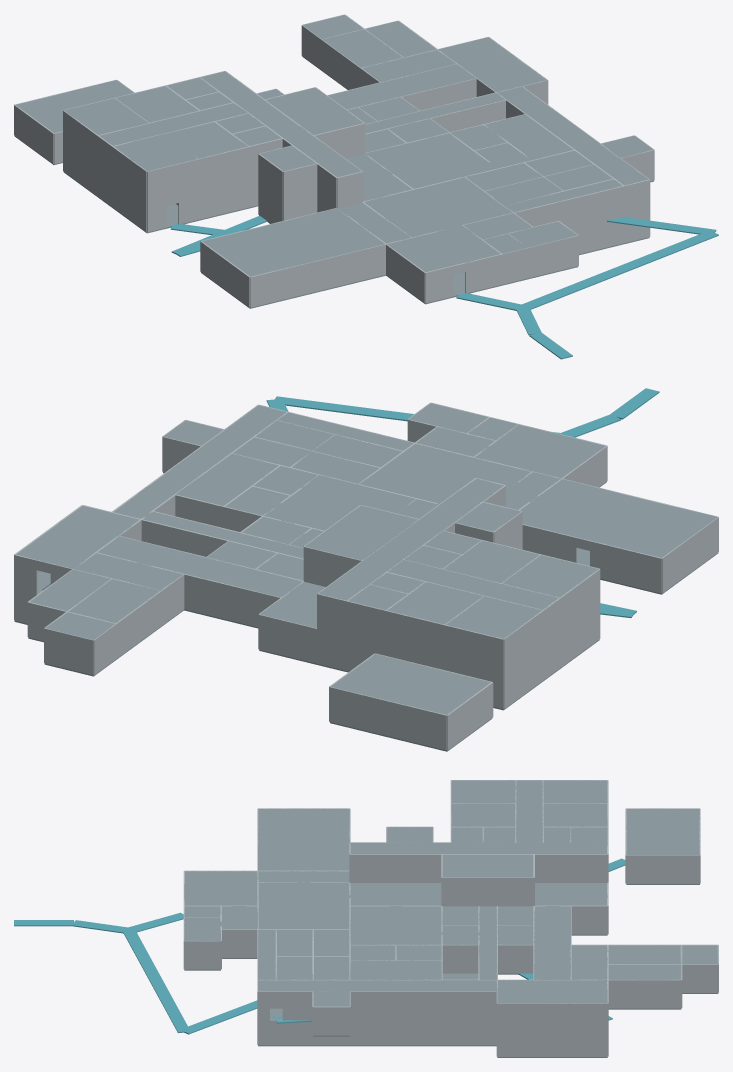
Rendered from rough-shell.glb.
3 views of the same model, one above another, from view 1: azimuth 30°, elevation 25°; view 2: azimuth 150°, elevation 25°; view 3: azimuth 270°, elevation 25° (orthographic). The views are drawn at different scales.
Parts seen in each view (by area): view 1: Wall day S, Ceiling cap upper-spine, Wall meal-return S, Ceiling cap day.001, Ceiling cap dining.003, Ceiling cap day, Ceiling cap upper-stair, Ceiling cap treatment.001, Ceiling cap service-link, Ceiling cap upper-ward-link, L73 support 1, Ceiling cap upper-south-a (+73 smaller); view 2: Ceiling cap upper-spine, Wall chapel N, Ceiling cap upper-stair, Ceiling cap day.001, Ceiling cap day, Ceiling cap dining.003, Ceiling cap service-link, Wall service-link N, Ceiling cap chapel.001, Ceiling cap chapel, Ceiling cap upper-ward-link, Wall day N (+77 smaller); view 3: Wall cellar-service E, Wall service E, Wall service-stair E, Ceiling cap upper-spine, Wall cellar-stair E, Wall upper-stair E, Wall upper-spine E.001, Ceiling cap day.001, Ceiling cap upper-stair, Wall upper-spine E, Ceiling cap day, Wall quiet-observation E (+57 smaller).
Part boxes in pixels (bbox=[...]): Wall day S: bbox=[250, 244, 385, 307]; Ceiling cap upper-spine: bbox=[200, 71, 361, 177]; Wall meal-return S: bbox=[514, 186, 624, 229]; Ceiling cap day.001: bbox=[253, 216, 351, 264]; Ceiling cap dining.003: bbox=[414, 177, 512, 224]; Ceiling cap day: bbox=[202, 229, 300, 276]; Ceiling cap upper-stair: bbox=[266, 87, 363, 134]; Ceiling cap treatment.001: bbox=[370, 136, 477, 174]; Ceiling cap service-link: bbox=[327, 64, 471, 106]; Ceiling cap upper-ward-link: bbox=[99, 103, 247, 145]; L73 support 1: bbox=[522, 230, 718, 309]; Ceiling cap upper-south-a: bbox=[114, 134, 197, 171]; Ceiling cap upper-spine: bbox=[318, 478, 503, 600]; Wall chapel N: bbox=[329, 687, 447, 750]; Ceiling cap upper-stair: bbox=[305, 505, 418, 560]; Ceiling cap day.001: bbox=[545, 488, 658, 543]; Ceiling cap day: bbox=[604, 503, 717, 557]; Ceiling cap dining.003: bbox=[359, 443, 472, 498]; Ceiling cap service-link: bbox=[97, 540, 298, 597]; Wall service-link N: bbox=[152, 566, 280, 627]; Ceiling cap chapel.001: bbox=[330, 654, 433, 700]; Ceiling cap chapel: bbox=[389, 668, 490, 714]; Ceiling cap upper-ward-link: bbox=[388, 560, 559, 609]; Wall day N: bbox=[590, 541, 661, 593]; Wall cellar-service E: bbox=[258, 1020, 496, 1045]; Wall service E: bbox=[282, 991, 496, 1020]; Wall service-stair E: bbox=[497, 1003, 607, 1031]; Ceiling cap upper-spine: bbox=[350, 842, 607, 853]; Wall cellar-stair E: bbox=[497, 1032, 607, 1056]; Wall upper-stair E: bbox=[442, 877, 533, 906]; Wall upper-spine E.001: bbox=[350, 854, 453, 882]; Ceiling cap day.001: bbox=[258, 832, 349, 855]; Ceiling cap upper-stair: bbox=[442, 854, 533, 877]; Wall upper-spine E: bbox=[467, 854, 607, 882]; Ceiling cap day: bbox=[258, 808, 349, 831]; Wall quiet-observation E: bbox=[608, 979, 681, 1008].
Size of the model in its own units: 51.25 by 9.96 by 76.58.
